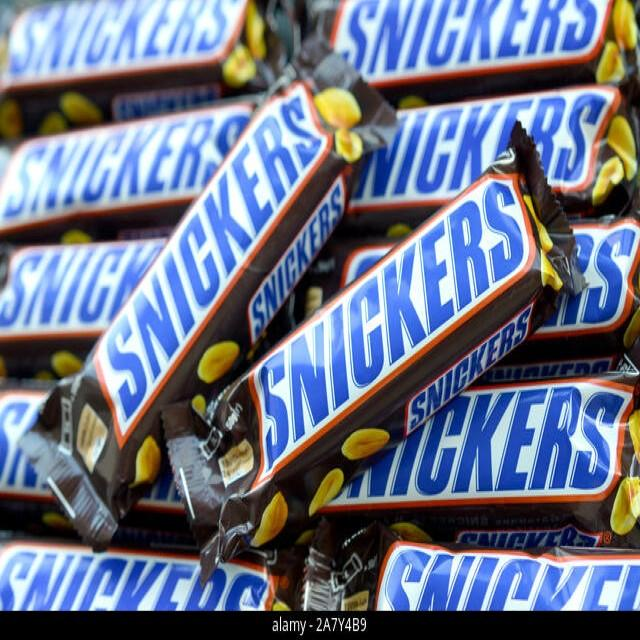snickers_chocolate: (32, 84, 345, 498), (180, 197, 517, 488), (330, 357, 640, 508), (315, 77, 623, 200), (313, 538, 640, 640), (0, 516, 271, 639), (0, 0, 265, 83), (0, 118, 210, 205), (323, 0, 590, 66), (0, 234, 140, 324)
